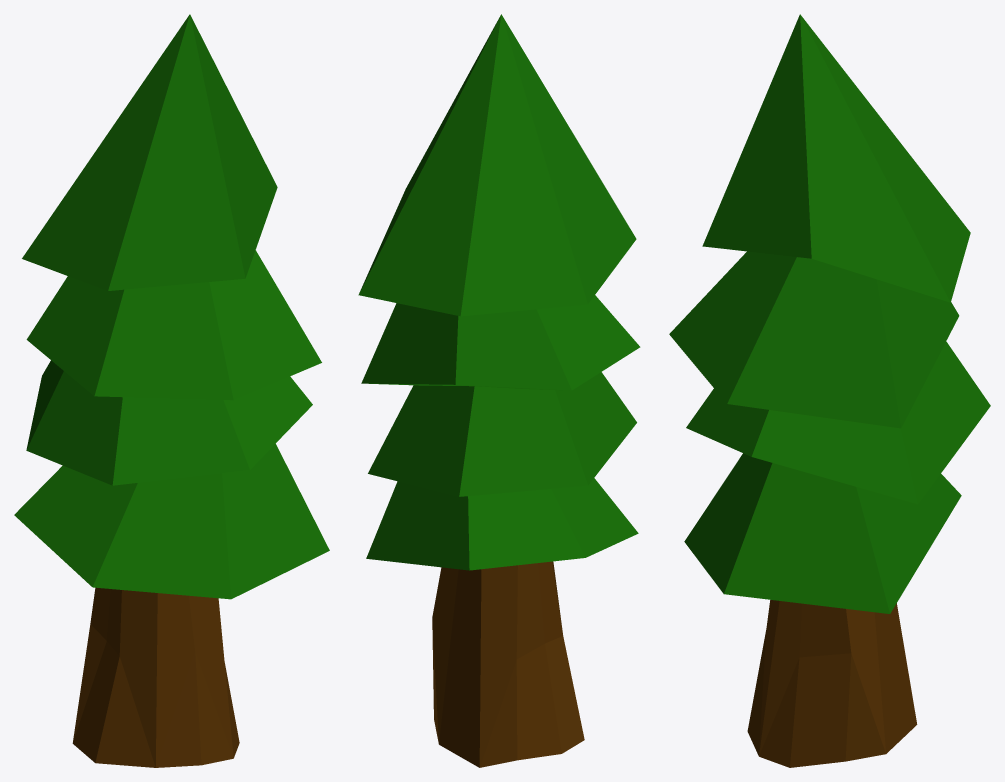
The model's file is Pine tree#6.fbx.
3 renders of one model, left to right at view 1: azimuth 30°, elevation 25°; view 2: azimuth 150°, elevation 25°; view 3: azimuth 270°, elevation 25°, orthographic. The views are drawn at different scales.
Parts seen in each view (by area): view 1: Pine tree#6; view 2: Pine tree#6; view 3: Pine tree#6.
Boxes of the visible parts, x1,y1,x2,y2 form: Pine tree#6: [14, 14, 329, 767]; Pine tree#6: [358, 14, 640, 767]; Pine tree#6: [669, 14, 990, 767].
Size of the model in its own units: 444 by 1336 by 532.
